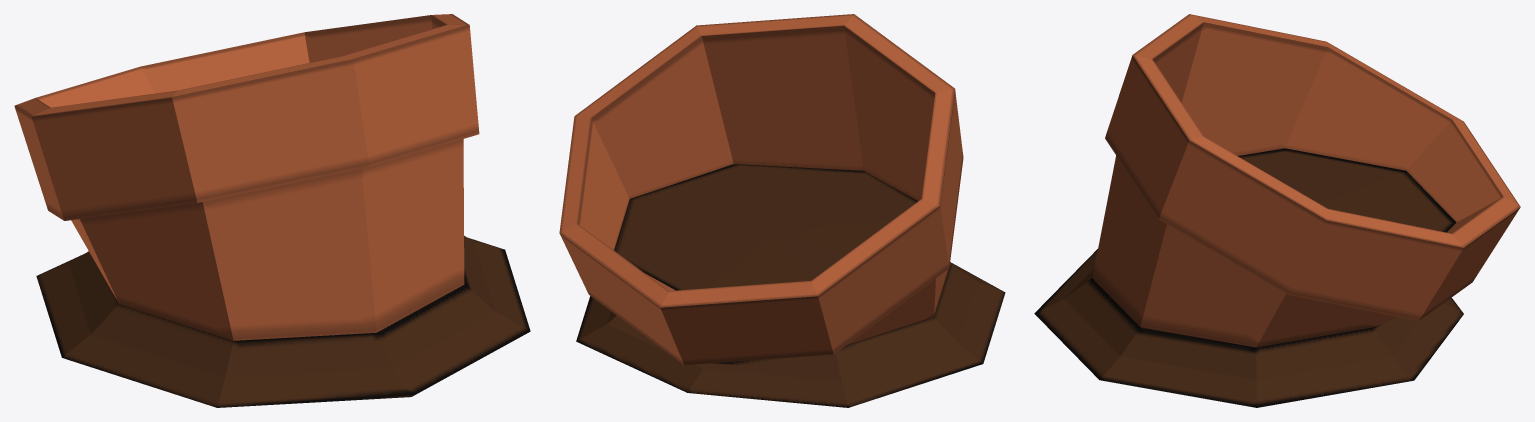
The model's file is Pot_Broken.glb.
The picture shows the model from 3 angles, left to right: view 1: azimuth 30°, elevation 25°; view 2: azimuth 150°, elevation 25°; view 3: azimuth 270°, elevation 25°; orthographic projection. The views are drawn at different scales.
Visible parts, largest first — view 1: Por_broken; view 2: Por_broken; view 3: Por_broken.
Part boxes in pixels (x1,y1,x2,y2): Por_broken: (14, 14, 530, 407); Por_broken: (559, 14, 1005, 407); Por_broken: (1034, 14, 1520, 407).
Size of the model in its own units: 1.68 by 1.08 by 1.84.
Materials: 1 (1 with a texture image).
